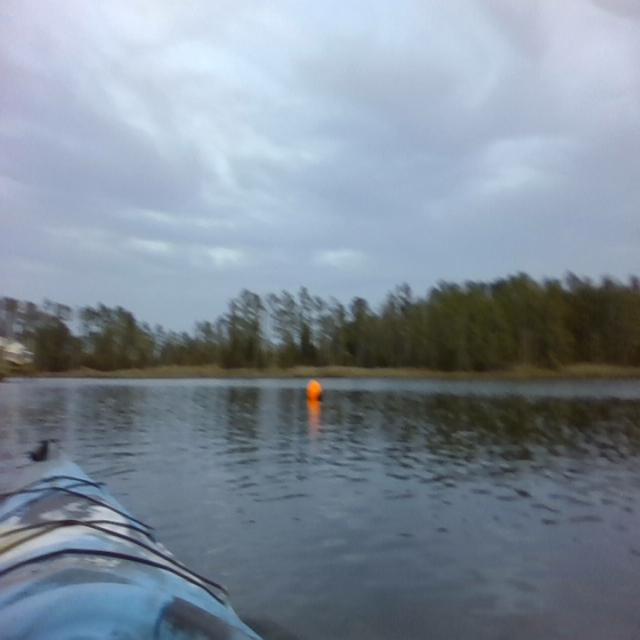Buoy: (304, 370, 326, 414)
